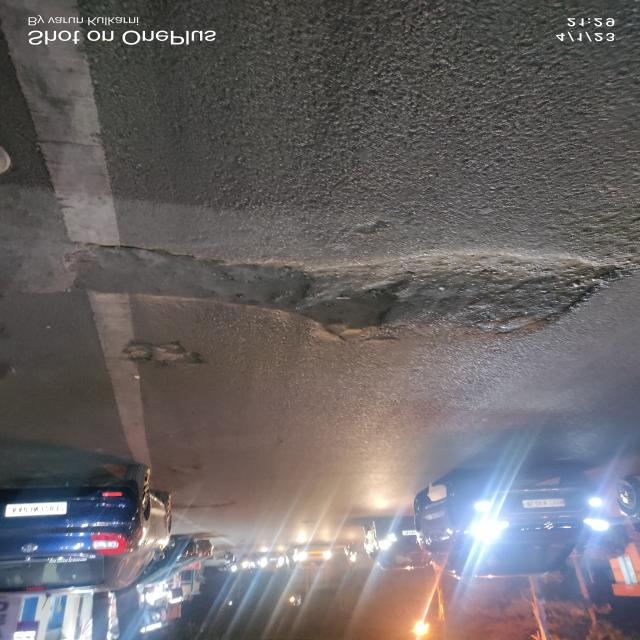potholes: (49, 242, 612, 344), (120, 346, 210, 376)
